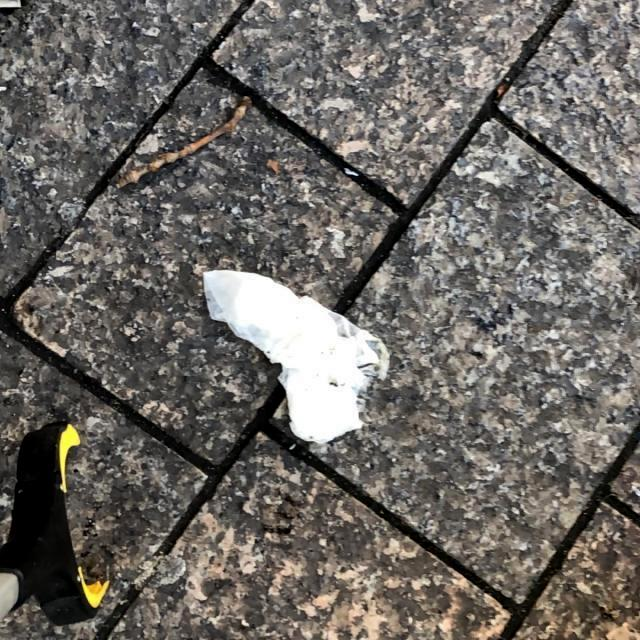Paper: (200, 266, 394, 442)
